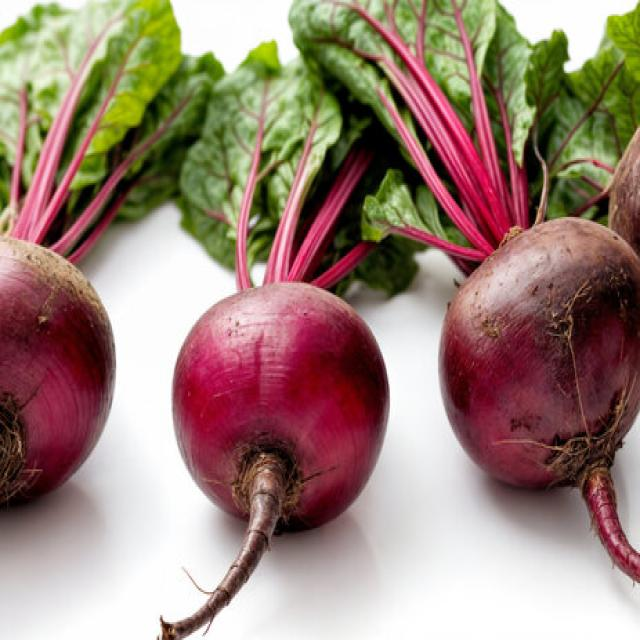Beetroot: (287, 0, 638, 596), (154, 70, 392, 638), (0, 0, 213, 510)
Cabbage: (286, 0, 536, 290), (0, 0, 224, 260)
Eggplant: (606, 80, 638, 416)
